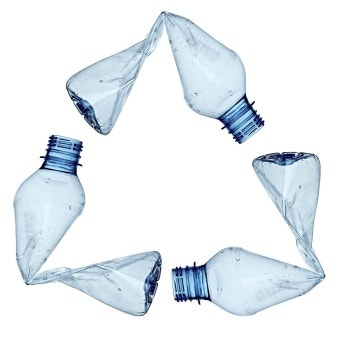plastic: (65, 10, 265, 143)
